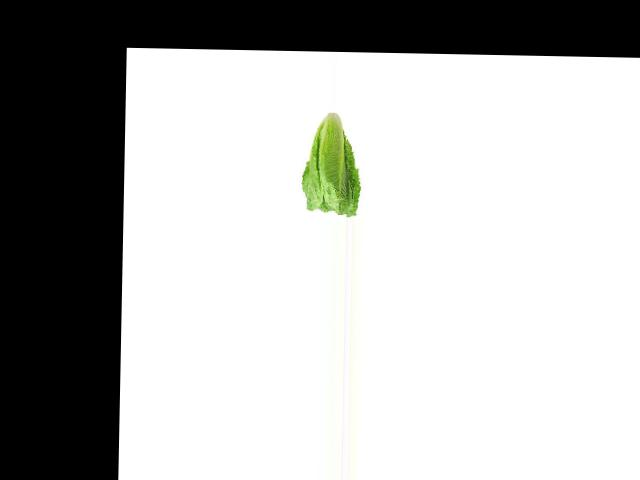lettuce: (293, 112, 365, 217)
